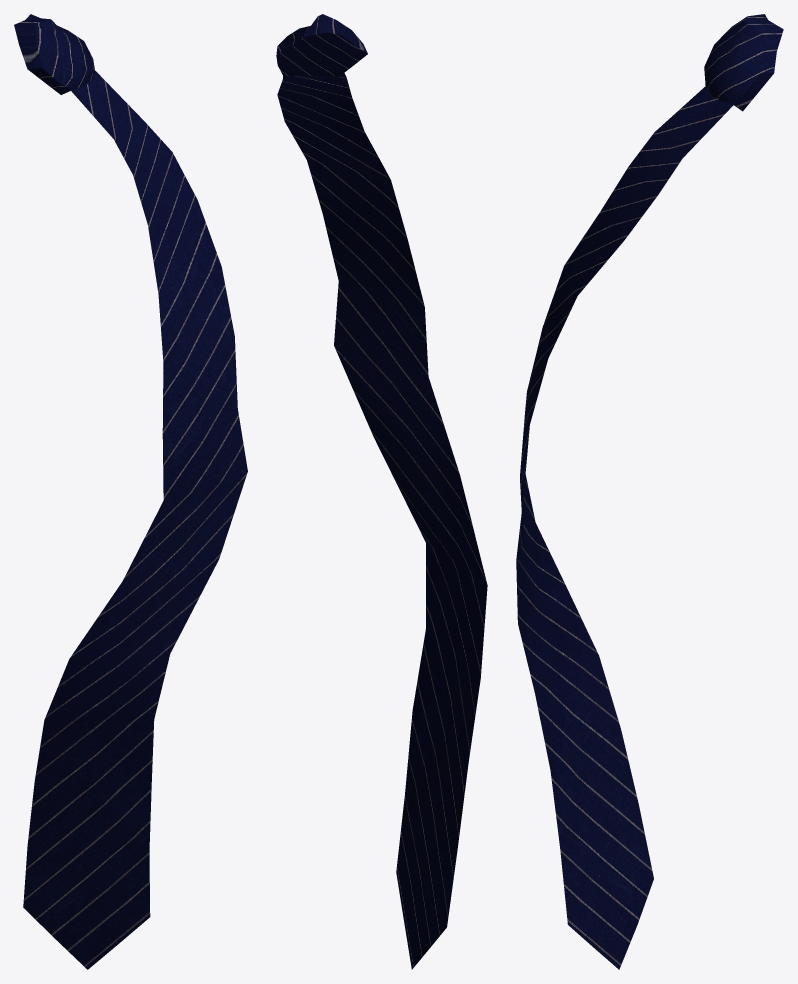
The model's file is Pose-12_SuitTie-4.fbx.
The picture shows the model from 3 angles, left to right: view 1: azimuth 30°, elevation 25°; view 2: azimuth 150°, elevation 25°; view 3: azimuth 270°, elevation 25°; orthographic projection. The views are drawn at different scales.
Visible parts, largest first — view 1: Pose-12_SuitTie-4; view 2: Pose-12_SuitTie-4; view 3: Pose-12_SuitTie-4.
Boxes of the visible parts, x1,y1,x2,y2 form: Pose-12_SuitTie-4: (14, 14, 247, 969); Pose-12_SuitTie-4: (276, 14, 487, 969); Pose-12_SuitTie-4: (516, 14, 783, 969).
Size of the model in its own units: 10.51 by 53.89 by 13.62.
